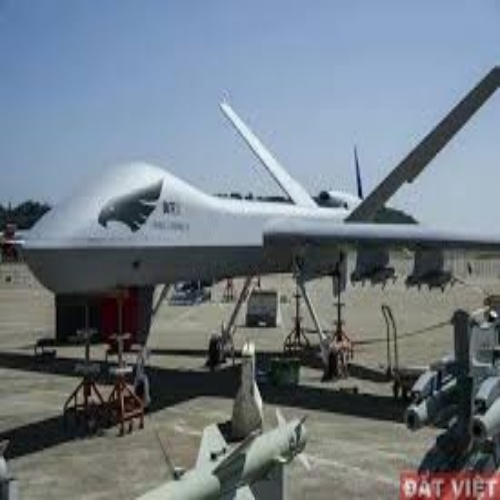uav523: (7, 70, 447, 367)
